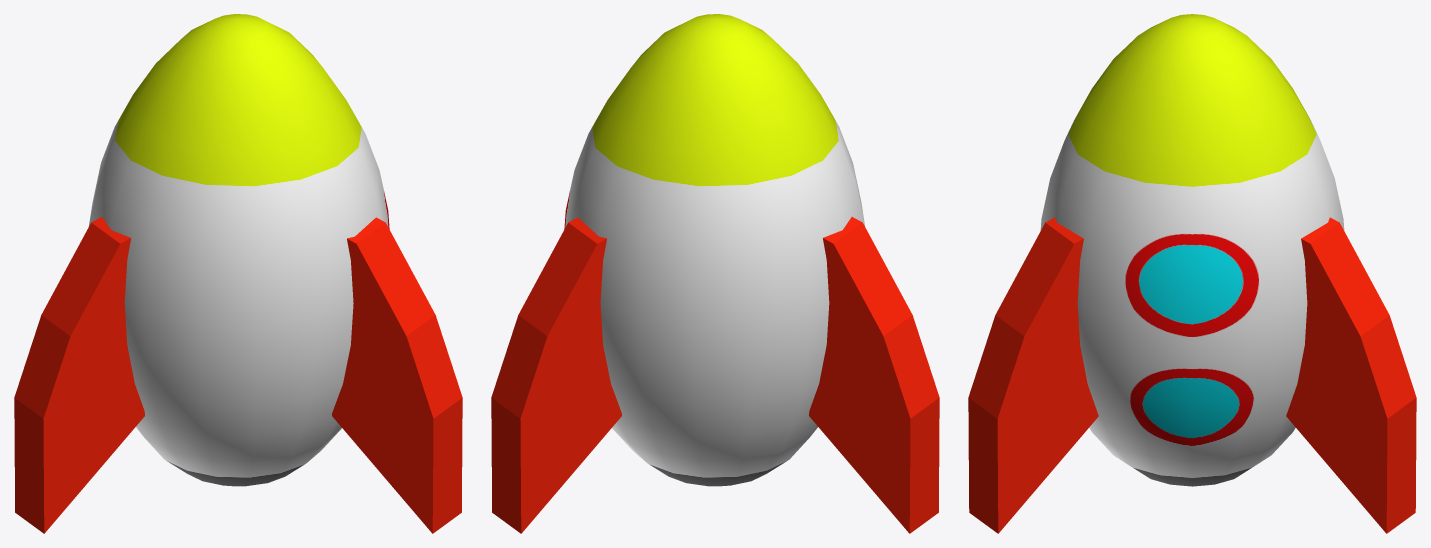
File: Rocket.fbx
3 views of the same model, side by side, from view 1: azimuth 30°, elevation 25°; view 2: azimuth 150°, elevation 25°; view 3: azimuth 270°, elevation 25° (orthographic).
Visible parts, largest first — view 1: Rocket, Wing; view 2: Rocket, Wing; view 3: Rocket, Wing.
Part boxes in pixels (box(x1,y1,x2,y2)): Rocket: box(88, 14, 389, 486); Wing: box(14, 217, 462, 533); Rocket: box(564, 14, 865, 486); Wing: box(491, 217, 939, 533); Rocket: box(1040, 14, 1344, 486); Wing: box(968, 217, 1416, 533).
Bounding box in the file's own units: 257 × 328 × 291.
